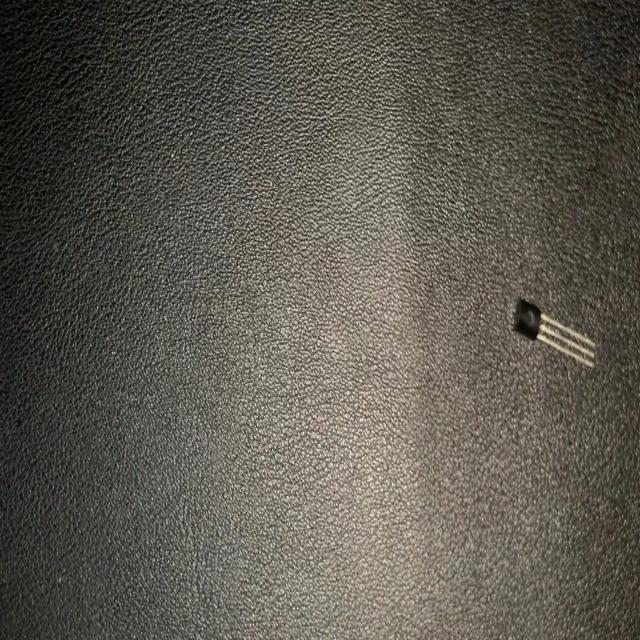BJT: (508, 294, 600, 375)
